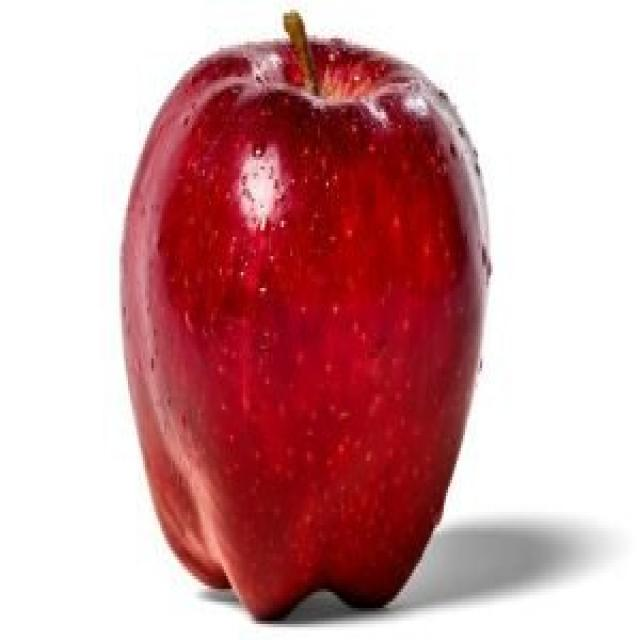Apple: (118, 10, 489, 618)
